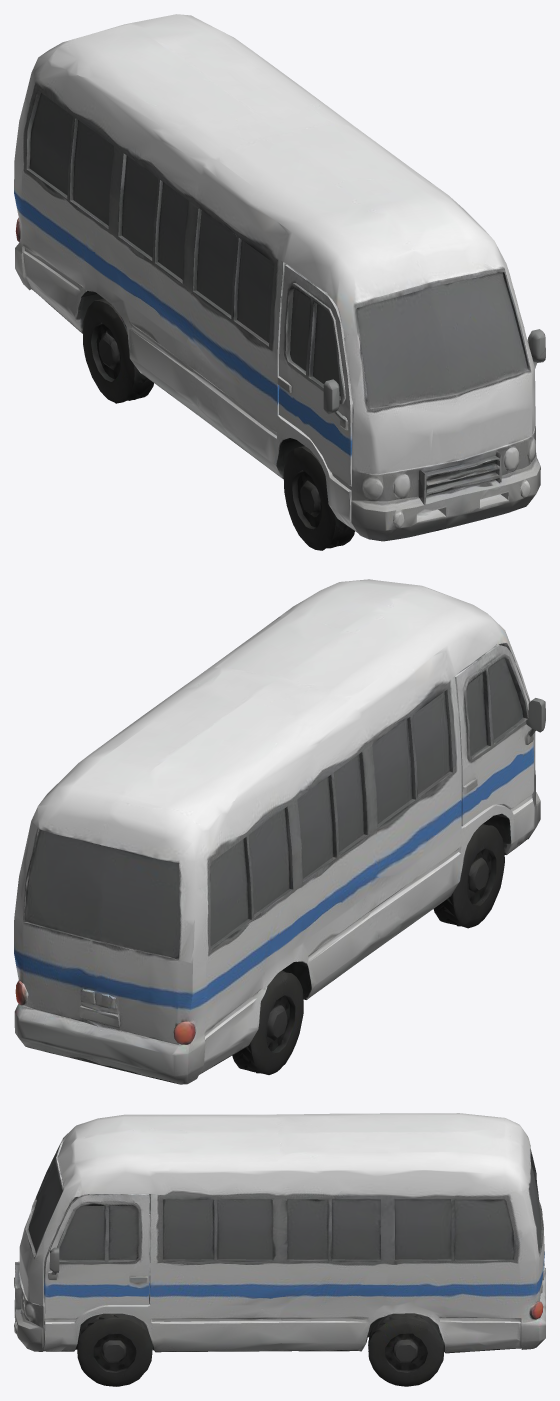
The model's file is onibus_pequeno.glb.
The picture shows the model from 3 angles, top to bottom: view 1: azimuth 30°, elevation 25°; view 2: azimuth 150°, elevation 25°; view 3: azimuth 270°, elevation 25°; orthographic projection. The views are drawn at different scales.
Parts seen in each view (by area): view 1: tripo_node_e8295542-5ba7-4b35-bd59-1e4151ae644d; view 2: tripo_node_e8295542-5ba7-4b35-bd59-1e4151ae644d; view 3: tripo_node_e8295542-5ba7-4b35-bd59-1e4151ae644d.
Boxes of the visible parts, x1,y1,x2,y2 form: tripo_node_e8295542-5ba7-4b35-bd59-1e4151ae644d: (14,14,545,550); tripo_node_e8295542-5ba7-4b35-bd59-1e4151ae644d: (14,579,545,1084); tripo_node_e8295542-5ba7-4b35-bd59-1e4151ae644d: (14,1113,545,1386).
Size of the model in its own units: 2.4 by 3.27 by 7.
Materials: 1 (1 with a texture image).
